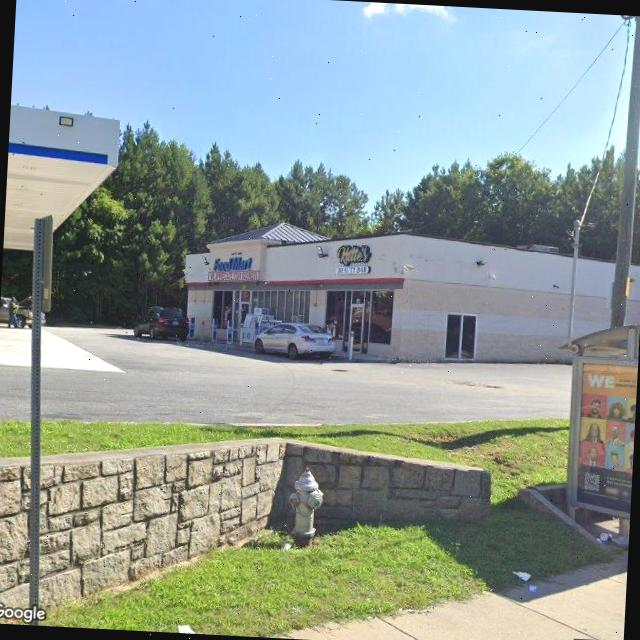shelter: (560, 324, 640, 544)
